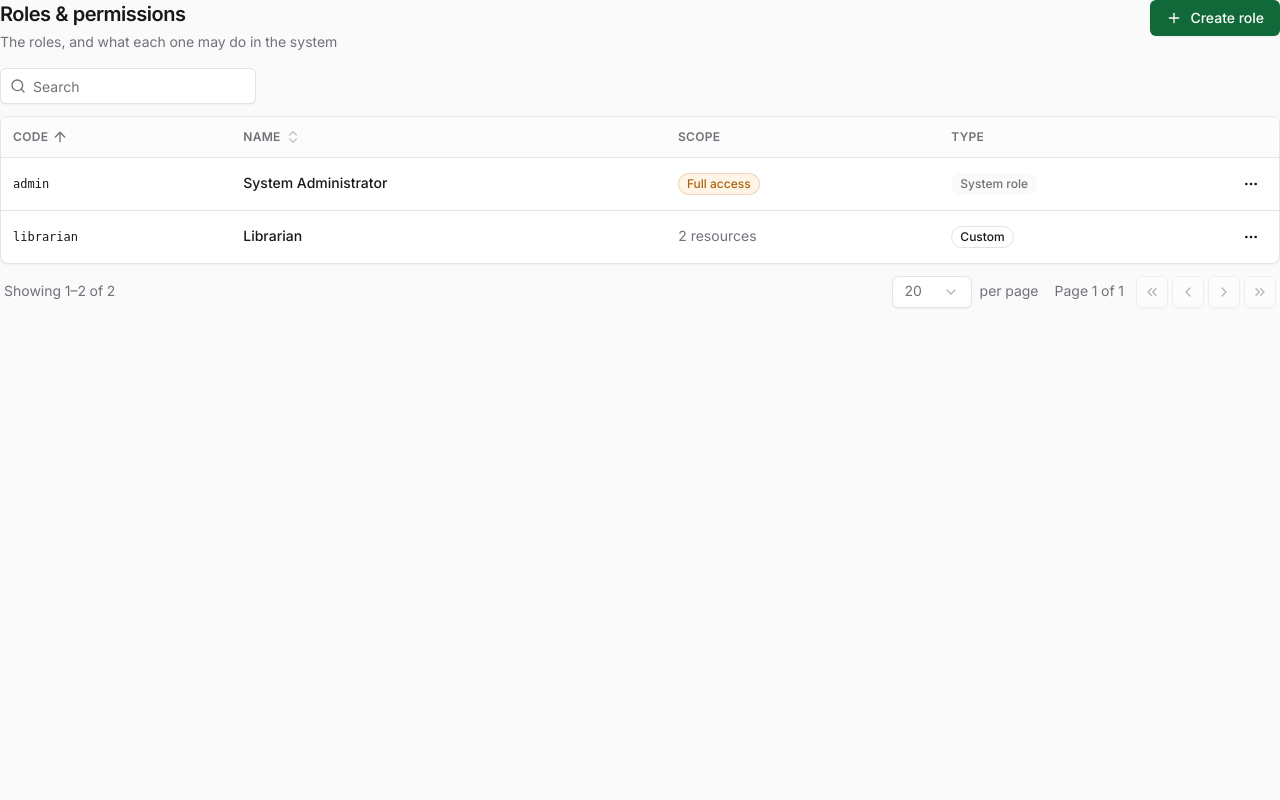
Scenario: RolesPage › shows what manage covers, without letting a click half-undo it
Click the button "Create role" at (1215,18), box [1150,0,1279,36]
(page scrolled)
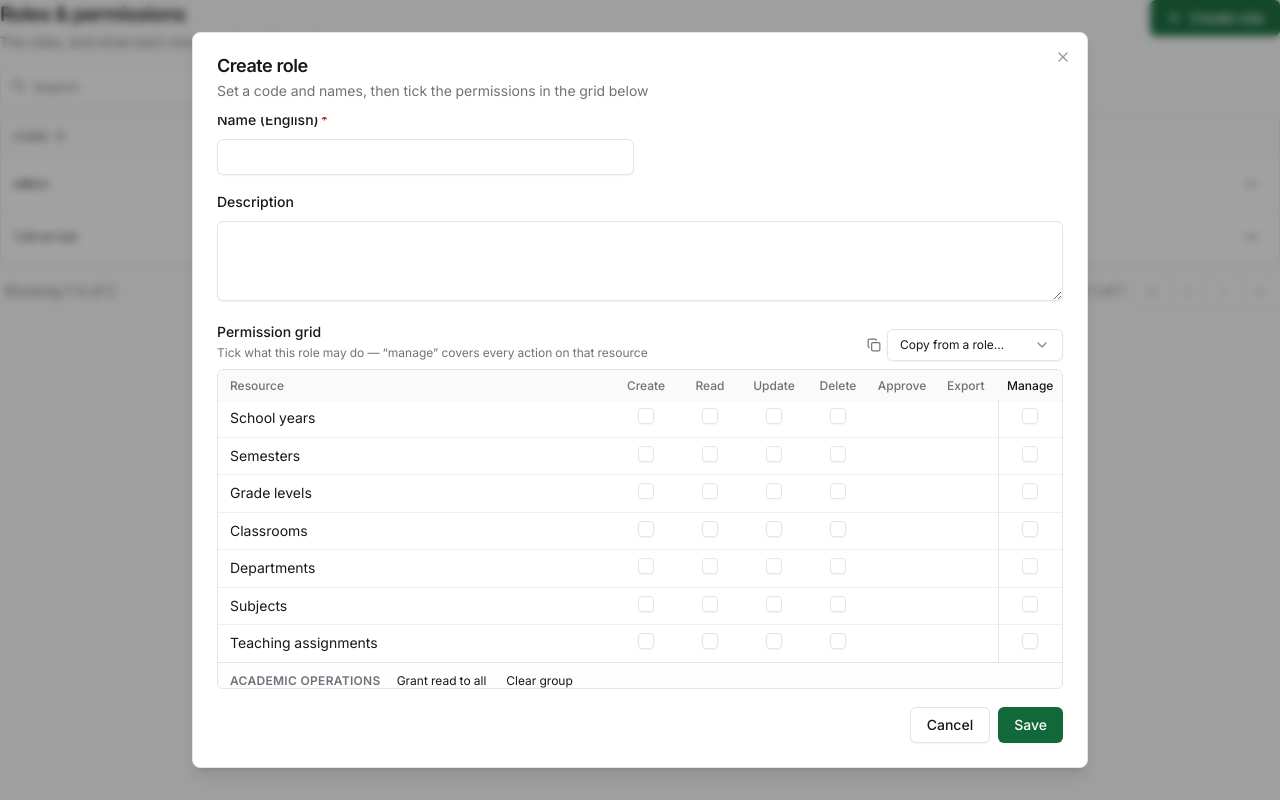
Click the checkbox named "Classrooms — Manage" at (1030,528), box [1022,520,1038,536]
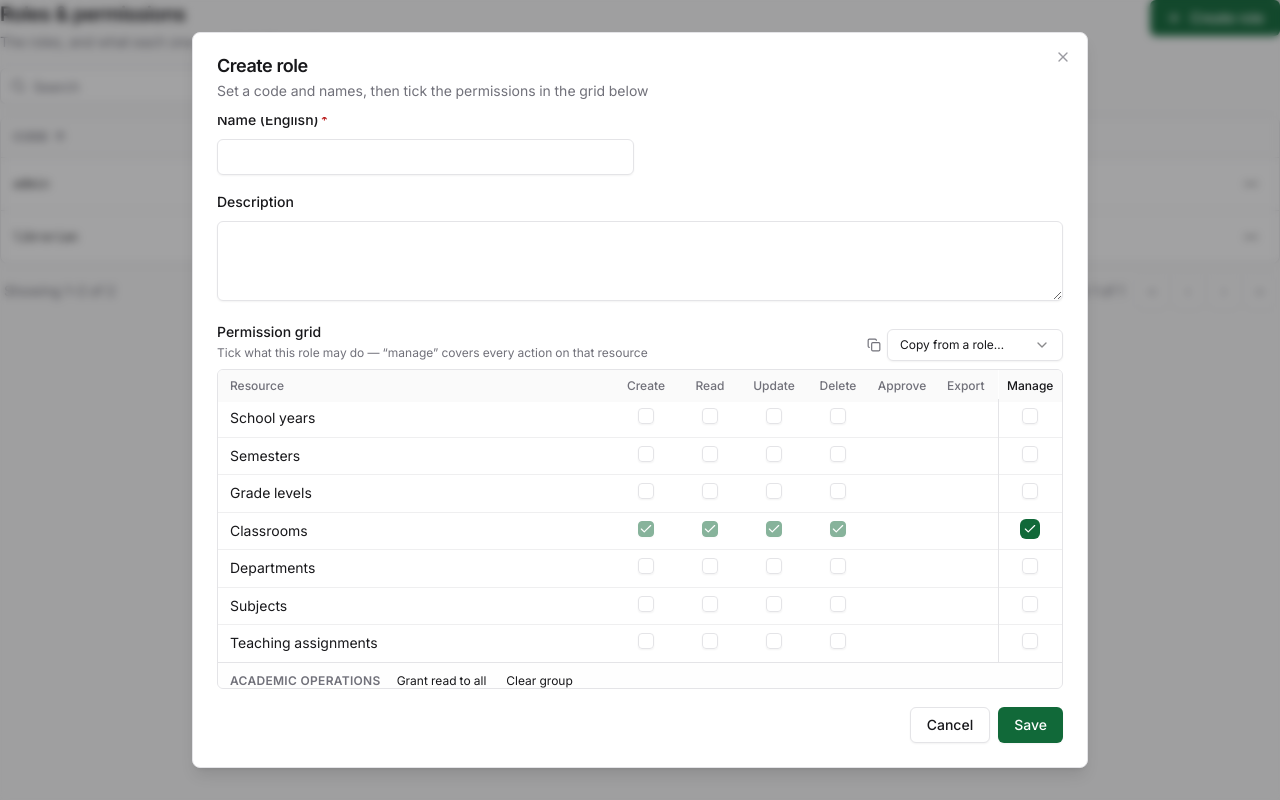
Expected: the checkbox named "Classrooms — Read" is checked, [702,520,718,536]
Expected: the checkbox named "Classrooms — Read" is disabled, [702,520,718,536]
